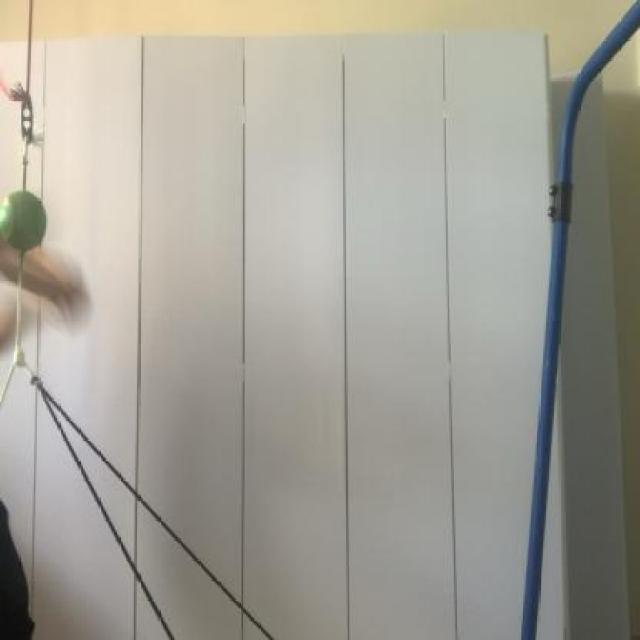baseball: (0, 180, 54, 266)
